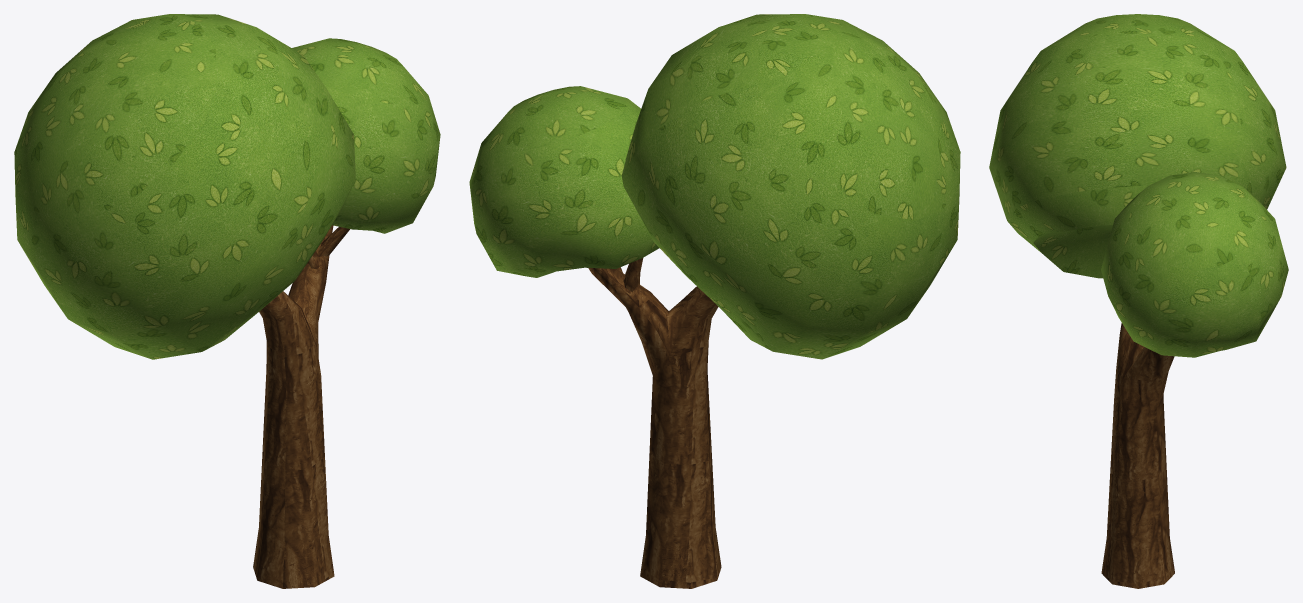
The model's file is bg_tree.FBX.
3 views of the same model, side by side, from view 1: azimuth 30°, elevation 25°; view 2: azimuth 150°, elevation 25°; view 3: azimuth 270°, elevation 25° (orthographic). The views are drawn at different scales.
Visible parts, largest first — view 1: bg_tree; view 2: bg_tree; view 3: bg_tree.
Part boxes in pixels (x1,y1,x2,y2): bg_tree: [14, 14, 440, 588]; bg_tree: [469, 14, 960, 588]; bg_tree: [989, 14, 1288, 588].
Bounding box in the file's own units: 63.37 × 80.84 × 43.96.
